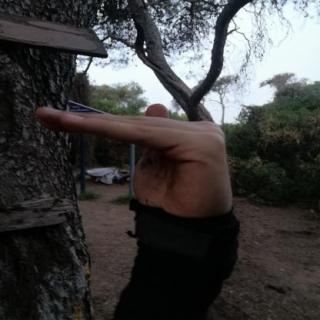KHAA: (19, 91, 260, 235)
